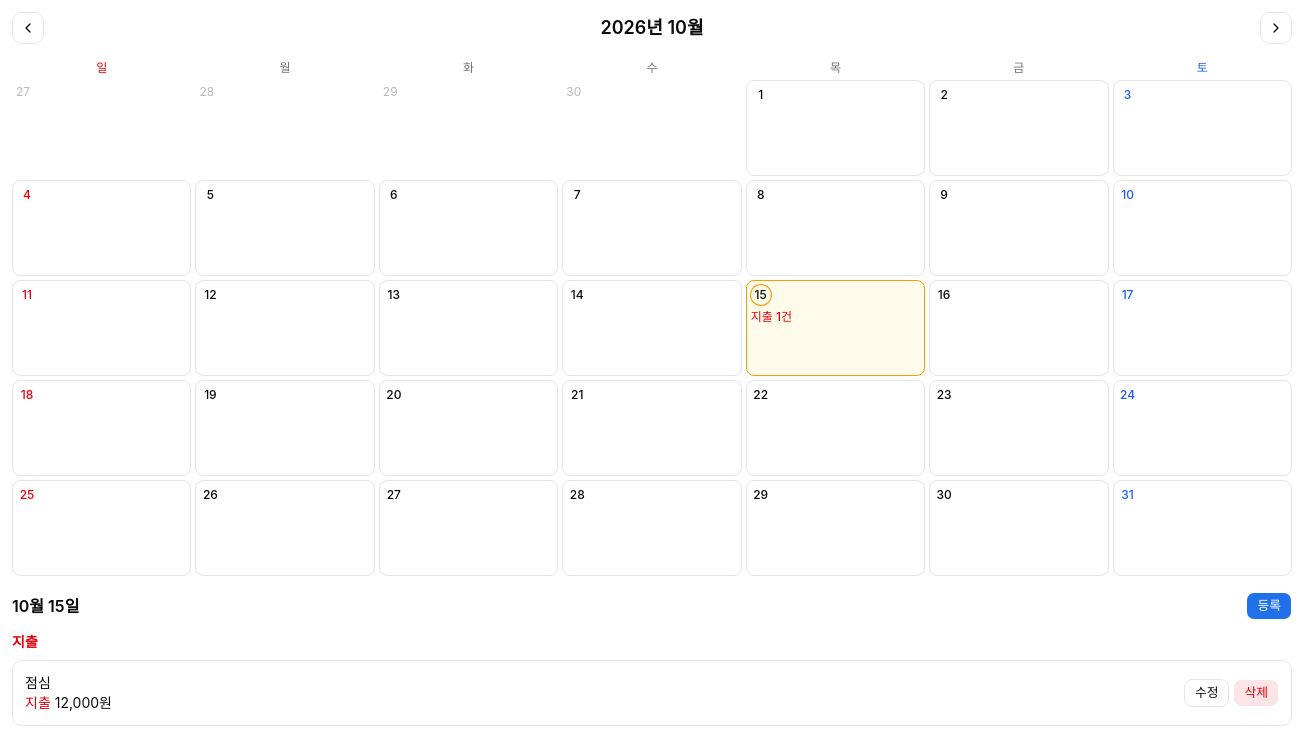
Ledger › switches the panel on date click without opening a dialog
The image size is (1304, 732).
Click the button named "10월 20일, 기록 없음".
click(468, 428)  # box [379,380,558,476]
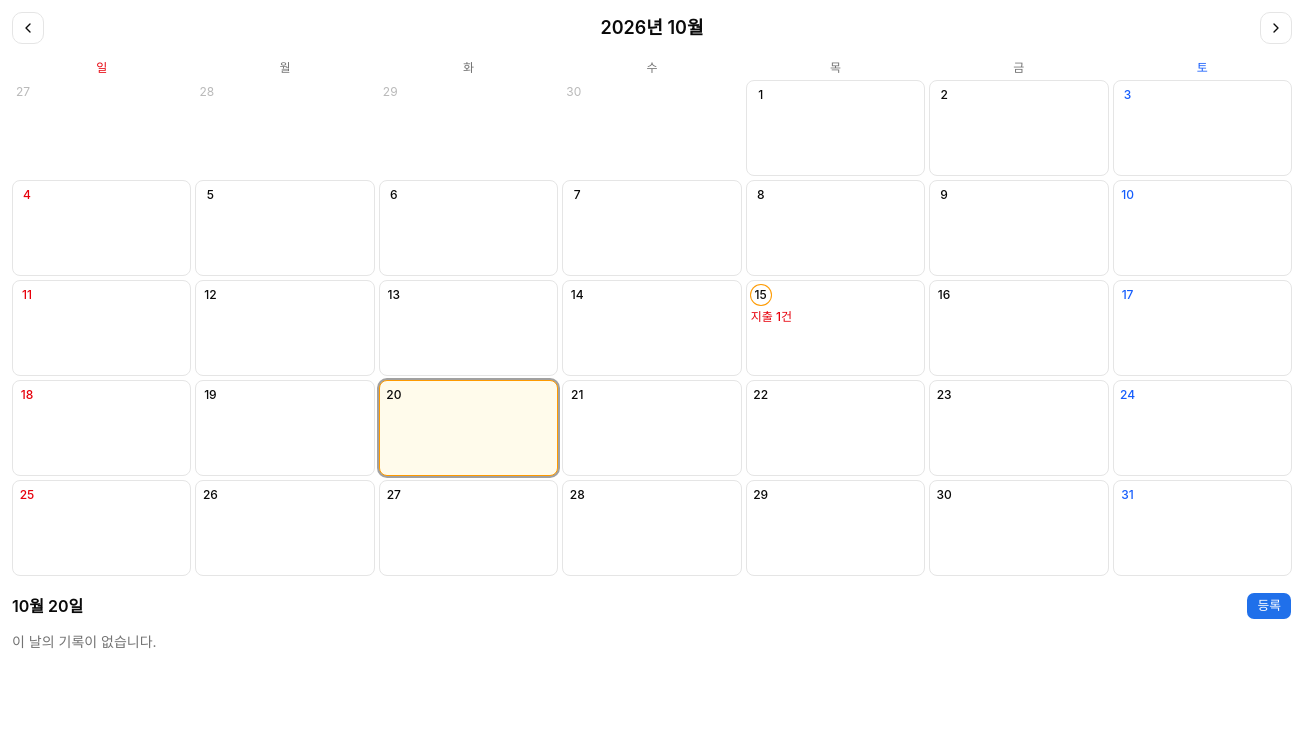
Result: the text "이 날의 기록이 없습니다." is shown at [12,633,157,650]
Result: the heading "10월 15일" is gone
